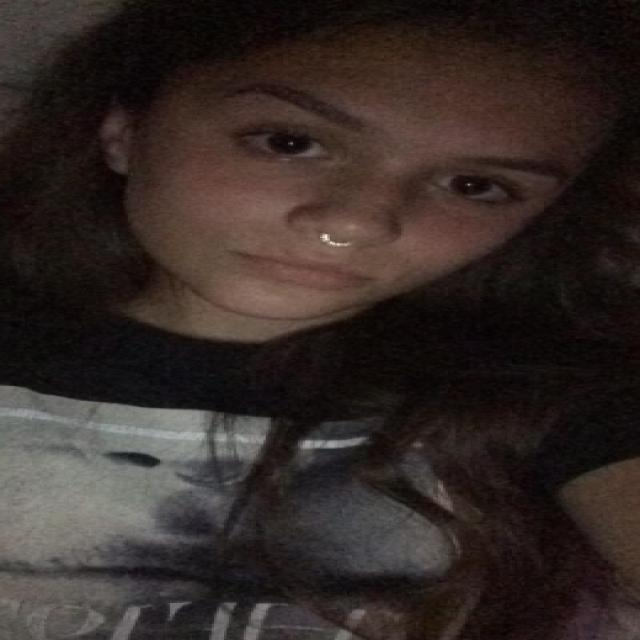face_no_mask: (100, 16, 588, 316)
